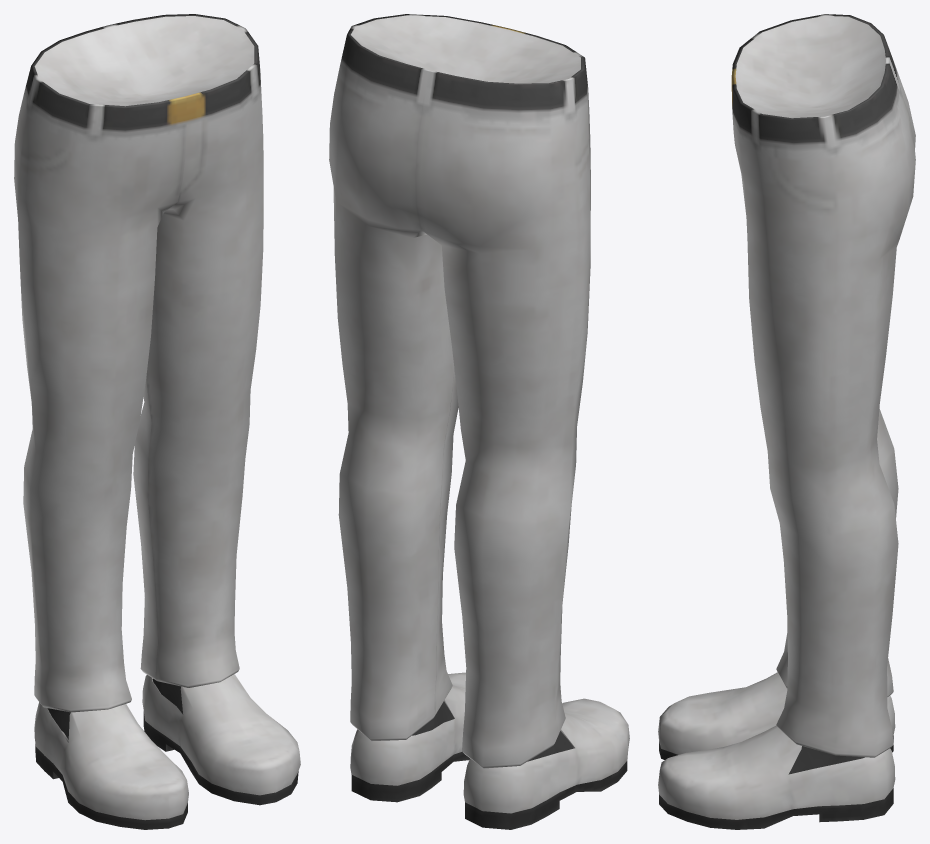
File: tr0840_00_lwb00.gltf
3 renders of one model, left to right at view 1: azimuth 30°, elevation 25°; view 2: azimuth 150°, elevation 25°; view 3: azimuth 270°, elevation 25°, orthographic. The views are drawn at different scales.
Parts seen in each view (by area): view 1: lwb00_lowerbody_mesh_shape:lowerbody00, lwb00_shoes_mesh_shape:lowerbody00; view 2: lwb00_lowerbody_mesh_shape:lowerbody00, lwb00_shoes_mesh_shape:lowerbody00; view 3: lwb00_lowerbody_mesh_shape:lowerbody00, lwb00_shoes_mesh_shape:lowerbody00.
Part boxes in pixels (x1=…): lwb00_lowerbody_mesh_shape:lowerbody00: x1=14, y1=14, x2=263, y2=712; lwb00_shoes_mesh_shape:lowerbody00: x1=34, y1=674, x2=300, y2=829; lwb00_lowerbody_mesh_shape:lowerbody00: x1=329, y1=14, x2=590, y2=768; lwb00_shoes_mesh_shape:lowerbody00: x1=350, y1=672, x2=629, y2=829; lwb00_lowerbody_mesh_shape:lowerbody00: x1=731, y1=14, x2=915, y2=757; lwb00_shoes_mesh_shape:lowerbody00: x1=658, y1=672, x2=895, y2=829.
Size of what is drawn, in the model's own units: 0.3371 by 0.9674 by 0.315.
1 material, 1 textured.
